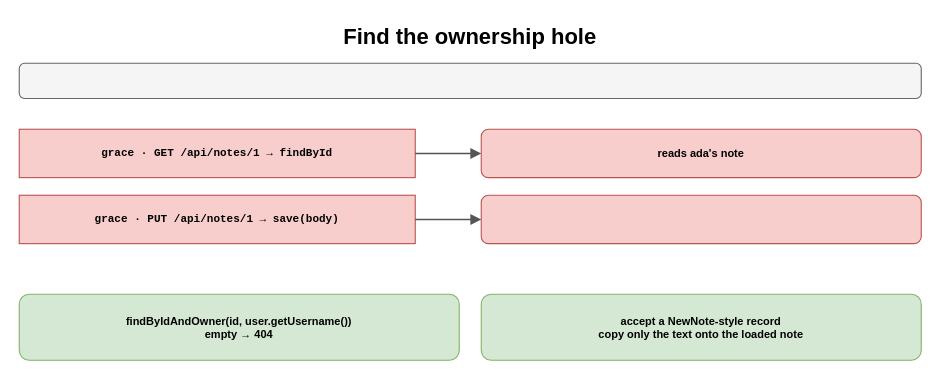
Image size: 941x380. Some labels were removed from this diagram. Each missing label, with the centre of its shape:
"findById and save(body) ignore the owner" belongs at point (469, 80).
"saves any id and owner grace chooses" belongs at point (700, 219).
